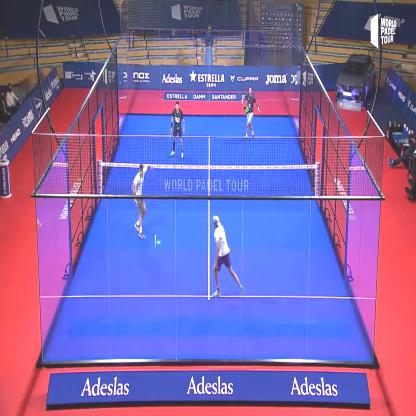ball: (155, 235, 162, 249)
